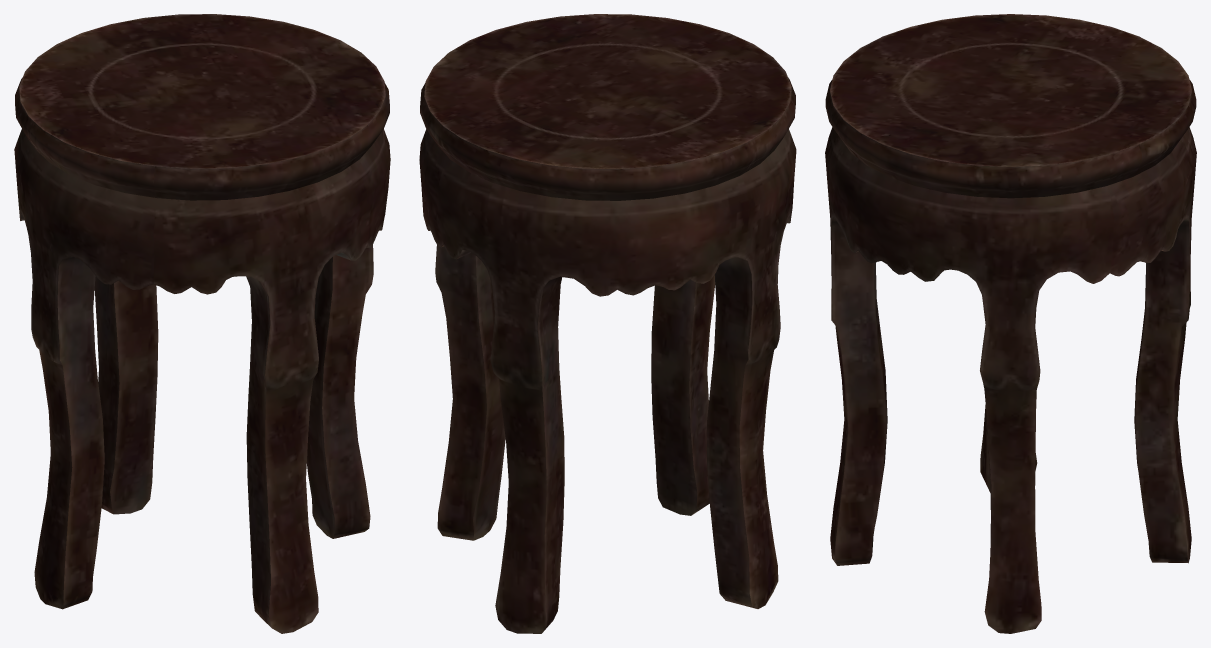
Rendered from woodentable_02.glb.
3 views of the same model, side by side, from view 1: azimuth 30°, elevation 25°; view 2: azimuth 150°, elevation 25°; view 3: azimuth 270°, elevation 25° (orthographic).
Parts seen in each view (by area): view 1: WoodenTable_02; view 2: WoodenTable_02; view 3: WoodenTable_02.
Part boxes in pixels (x1,y1,x2,y2): WoodenTable_02: [14, 14, 390, 633]; WoodenTable_02: [419, 14, 796, 633]; WoodenTable_02: [825, 14, 1196, 633].
Size of the model in its own units: 0.3007 by 0.4177 by 0.3007.
Materials: 1 (1 with a texture image).
